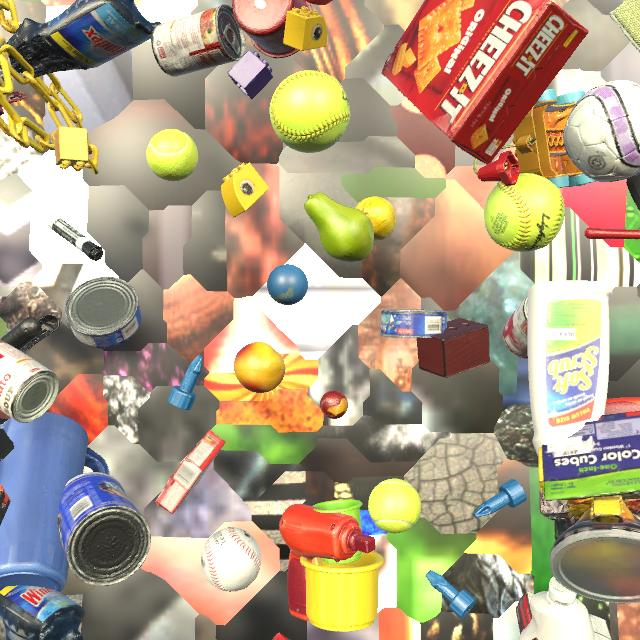ycb_002_master_chef_can: (57, 472, 151, 586)
ycb_003_cracker_box: (381, 0, 589, 165), (272, 633, 289, 640)
ycb_005_tomato_soup_can: (151, 4, 246, 77), (0, 339, 59, 423), (502, 296, 528, 359)
ycb_007_tuna_fish_can: (65, 277, 142, 349), (380, 309, 447, 338)
ycb_008_pudding_box: (516, 591, 612, 640)
ycb_009_gelatin_box: (156, 430, 225, 514)
ycb_014_lemon: (355, 197, 396, 241)
ycb_015_peach: (234, 342, 285, 393)
ycb_016_pear: (304, 193, 374, 262)
